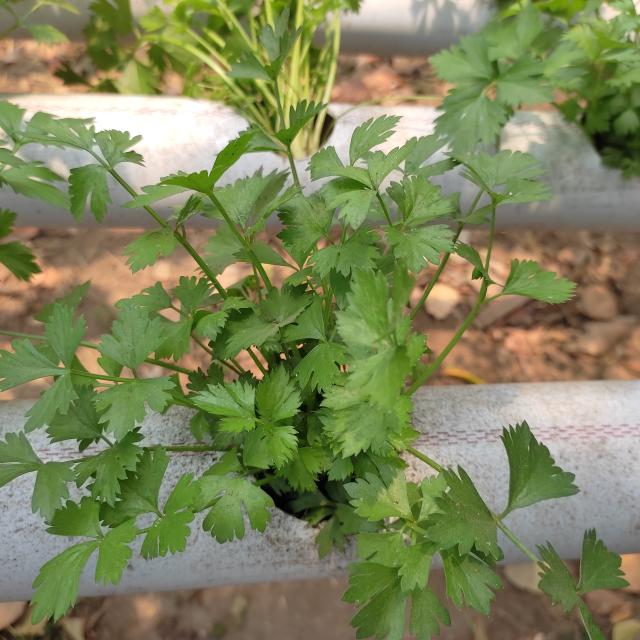Wet Waste: (22, 119, 540, 614)
